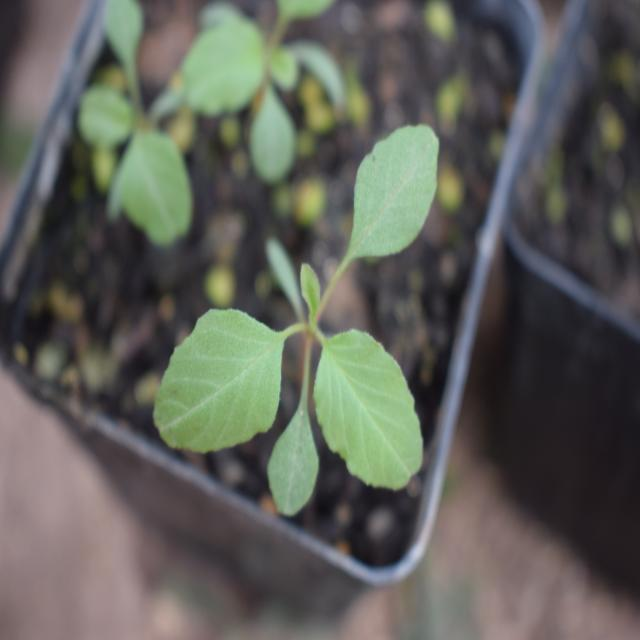pigweed: (156, 134, 457, 507)
